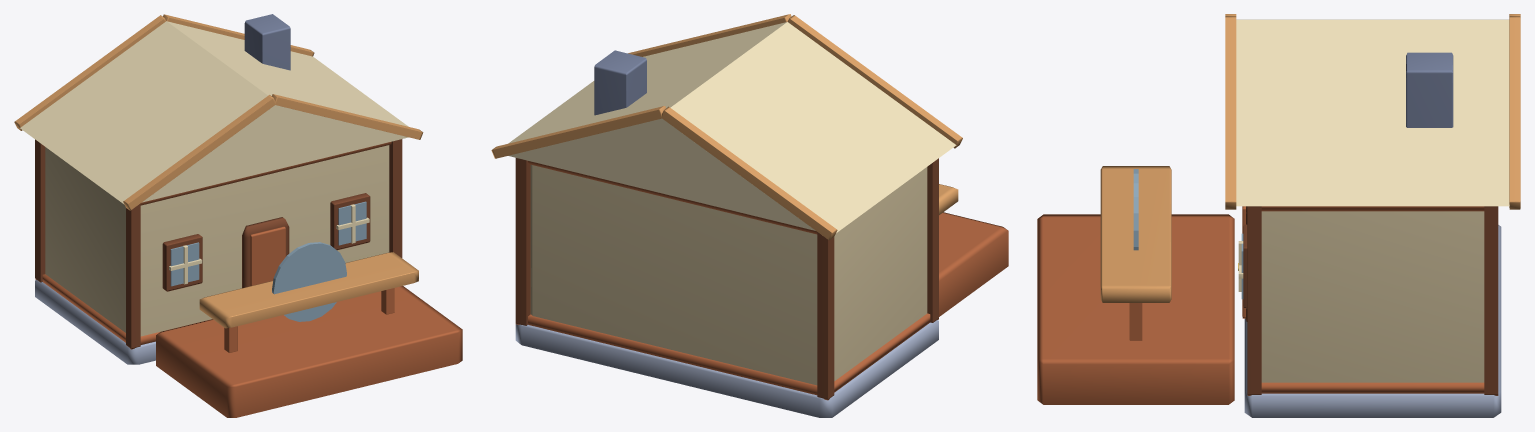
Rendered from sawmill.glb.
3 renders of one model, left to right at view 1: azimuth 30°, elevation 25°; view 2: azimuth 150°, elevation 25°; view 3: azimuth 270°, elevation 25°, orthographic. The views are drawn at different scales.
Visible parts, largest first — view 1: Pitched roof.008, Plaster walls.007, Saw platform, Saw table, Saw blade, Stone footing.007, Roof trim.032, Chimney.007, Corner post.028, Door planks.007, Roof trim.033, Roof trim.034 (+10 smaller); view 2: Plaster walls.007, Pitched roof.008, Stone footing.007, Saw platform, Timber band.014, Roof trim.034, Corner post.029, Chimney.007, Corner post.031, Roof trim.035, Roof trim.032, Corner post.028 (+2 smaller); view 3: Pitched roof.008, Plaster walls.007, Saw platform, Saw table, Stone footing.007, Chimney.007, Corner post.030, Corner post.031, Timber band.014, Roof trim.033, Roof trim.035, Timber band.015 (+2 smaller).
Boxes of the visible parts, box(x1,y1,x2,y2) form: Pitched roof.008: box(20, 21, 408, 204); Plaster walls.007: box(45, 145, 389, 336); Saw platform: box(156, 286, 462, 417); Saw table: box(199, 252, 418, 328); Saw blade: box(272, 242, 346, 321); Stone footing.007: box(35, 279, 155, 364); Roof trim.032: box(123, 95, 275, 210); Chimney.007: box(244, 14, 290, 70); Corner post.028: box(126, 203, 140, 349); Door planks.007: box(250, 226, 285, 285); Roof trim.033: box(272, 94, 423, 139); Roof trim.034: box(14, 15, 165, 130); Plaster walls.007: box(530, 164, 927, 385); Pitched roof.008: box(508, 22, 956, 232); Stone footing.007: box(515, 320, 938, 417); Saw platform: box(939, 212, 1008, 316); Timber band.014: box(528, 313, 930, 395); Roof trim.034: box(662, 106, 837, 240); Corner post.029: box(817, 232, 834, 400); Chimney.007: box(594, 50, 646, 115); Corner post.031: box(515, 158, 530, 325); Roof trim.035: box(491, 106, 665, 158); Roof trim.032: box(787, 15, 962, 148); Corner post.028: box(927, 158, 938, 322); Pitched roof.008: box(1236, 19, 1509, 206); Plaster walls.007: box(1261, 211, 1484, 382); Saw platform: box(1037, 214, 1234, 404); Saw table: box(1100, 166, 1171, 302); Stone footing.007: box(1244, 225, 1501, 417); Chimney.007: box(1406, 52, 1453, 127); Corner post.030: box(1247, 206, 1261, 395); Corner post.031: box(1484, 206, 1498, 395); Timber band.014: box(1261, 382, 1484, 393); Roof trim.033: box(1225, 16, 1236, 209); Roof trim.035: box(1509, 16, 1520, 209); Timber band.015: box(1261, 206, 1484, 211).
Size of the model in its own units: 5.66 by 4.41 by 6.12.
